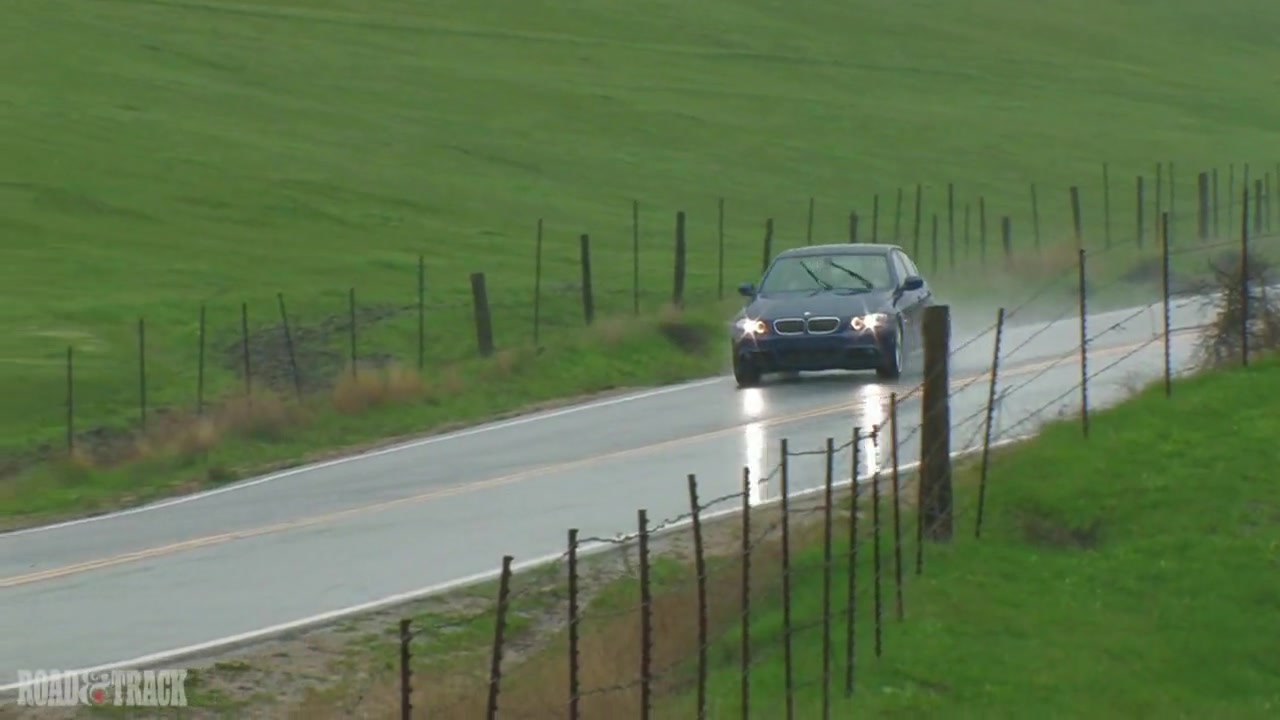car: (729, 243, 932, 387)
